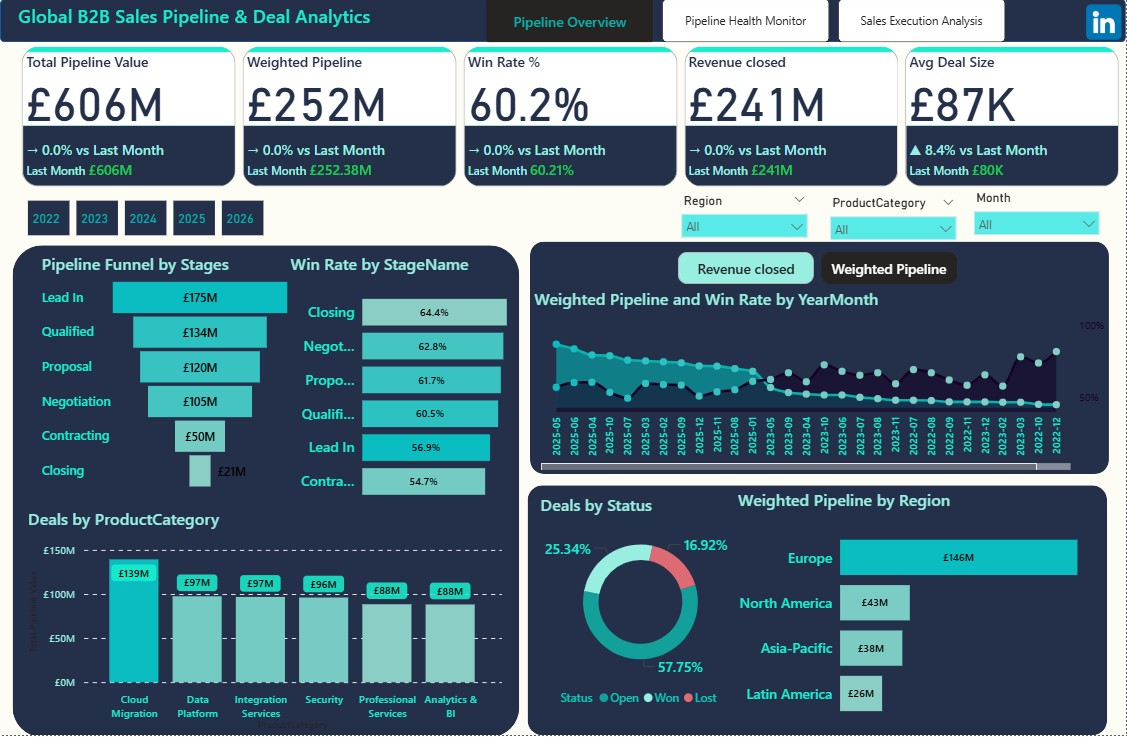

The dashboard page shown, as its layout file describes it:
{"tool":"powerbi","page":{"name":"Pipeline Overview","canvas":[1300,850],"ordinal":0},"visuals":[{"type":"cardVisual","fields":{"Data":["mesaure Table.Total Pipeline Value","mesaure Table.Weighted Pipeline","mesaure Table.Win Rate %","mesaure Table.Won Revenue","mesaure Table.Avg Deal Size"]},"box":[20.3,50,1280,171.7],"z":0},{"type":"shape","box":[0,0,1300.3,50],"z":1000},{"type":"shape","box":[15,283.9,585.4,568.2],"z":2000},{"type":"funnel","title":"Pipeline Funnel by Stages","fields":{"Category":["FactDeals.StageName"],"Y":["mesaure Table.Total Pipeline Value"]},"box":[42.8,293.5,298.6,279.2],"z":3000},{"type":"textbox","box":[0,0,466.7,65.6],"z":4000},{"type":"clusteredBarChart","title":"Win Rate  by StageName","fields":{"Category":["FactDeals.StageName"],"Y":["mesaure Table.Win Rate %"]},"box":[330.3,293.3,301.3,301.3],"z":5000},{"type":"shape","box":[611.4,279.8,668.6,268.6],"z":6000},{"type":"advancedSlicerVisual","fields":{"Values":["dynamice mesaure .dynamice mesaure "]},"box":[778.6,286.9,332.9,47.1],"z":7000},{"type":"areaChart","fields":{"Y":["meausure table.Weighted Pipeline"],"Y2":["mesaure Table.Win Rate %"],"Category":["Calendar.YearMonth"]},"box":[611.4,334.1,668.6,215.7],"z":8000},{"type":"columnChart","title":"Deals by ProductCategory","fields":{"Category":["FactDeals.ProductCategory"],"Y":["meausure table.Total Pipeline Value"]},"box":[27.5,587.9,556.9,262.5],"z":9000},{"type":"shape","box":[608.6,561.8,669.4,288.9],"z":10000},{"type":"donutChart","title":"Deals by Status","fields":{"Category":["FactDeals.Status"],"Y":["mesaure Table.Total Deals"]},"box":[619.3,571.7,241.1,254.1],"z":11000},{"type":"barChart","fields":{"Y":["mesaure Table.Weighted Pipeline"],"Category":["DimCompany.Region"]},"box":[847.4,565.9,453.3,284.4],"z":12000},{"type":"advancedSlicerVisual","fields":{"Values":["Calendar.Year"]},"box":[27.4,228.1,285.8,50.5],"z":13000},{"type":"slicer","fields":{"Values":["Calendar.MonthName"]},"box":[1114.6,217,165.5,62.4],"z":14000},{"type":"pageNavigator","box":[561.6,0,599.1,50.5],"z":15000},{"type":"slicer","fields":{"Values":["FactActivities.ProductCategory"]},"box":[948.5,222.3,166,60.6],"z":16000},{"type":"slicer","fields":{"Values":["DimCompany.Region"]},"box":[776.7,219.4,166,60.6],"z":17000},{"type":"image","box":[1248.7,1.4,52,50.5],"z":18000}]}

Visuals, with their boxes in screenshot pixels (x1, y1, x2, y2), scaled from the page's 1300x850 canvas onto the 1127x737 screenshot:
cardVisual - mesaure Table.Total Pipeline Value x mesaure Table.Weighted Pipeline: {"x1": 18, "y1": 43, "x2": 1126, "y2": 192}
shape: {"x1": 0, "y1": 0, "x2": 1126, "y2": 43}
shape: {"x1": 13, "y1": 246, "x2": 521, "y2": 736}
"Pipeline Funnel by Stages" funnel: {"x1": 37, "y1": 254, "x2": 296, "y2": 497}
textbox: {"x1": 0, "y1": 0, "x2": 405, "y2": 57}
"Win Rate  by StageName" clusteredBarChart: {"x1": 286, "y1": 254, "x2": 548, "y2": 516}
shape: {"x1": 530, "y1": 243, "x2": 1110, "y2": 475}
advancedSlicerVisual - dynamice mesaure .dynamice mesaure : {"x1": 675, "y1": 249, "x2": 964, "y2": 290}
areaChart - meausure table.Weighted Pipeline x mesaure Table.Win Rate %: {"x1": 530, "y1": 290, "x2": 1110, "y2": 477}
"Deals by ProductCategory" columnChart: {"x1": 24, "y1": 510, "x2": 507, "y2": 736}
shape: {"x1": 528, "y1": 487, "x2": 1108, "y2": 736}
"Deals by Status" donutChart: {"x1": 537, "y1": 496, "x2": 746, "y2": 716}
barChart - mesaure Table.Weighted Pipeline x DimCompany.Region: {"x1": 735, "y1": 491, "x2": 1126, "y2": 736}
advancedSlicerVisual - Calendar.Year: {"x1": 24, "y1": 198, "x2": 272, "y2": 242}
slicer - Calendar.MonthName: {"x1": 966, "y1": 188, "x2": 1110, "y2": 242}
pageNavigator: {"x1": 487, "y1": 0, "x2": 1006, "y2": 44}
slicer - FactActivities.ProductCategory: {"x1": 822, "y1": 193, "x2": 966, "y2": 245}
slicer - DimCompany.Region: {"x1": 673, "y1": 190, "x2": 817, "y2": 243}
image: {"x1": 1083, "y1": 1, "x2": 1126, "y2": 45}
